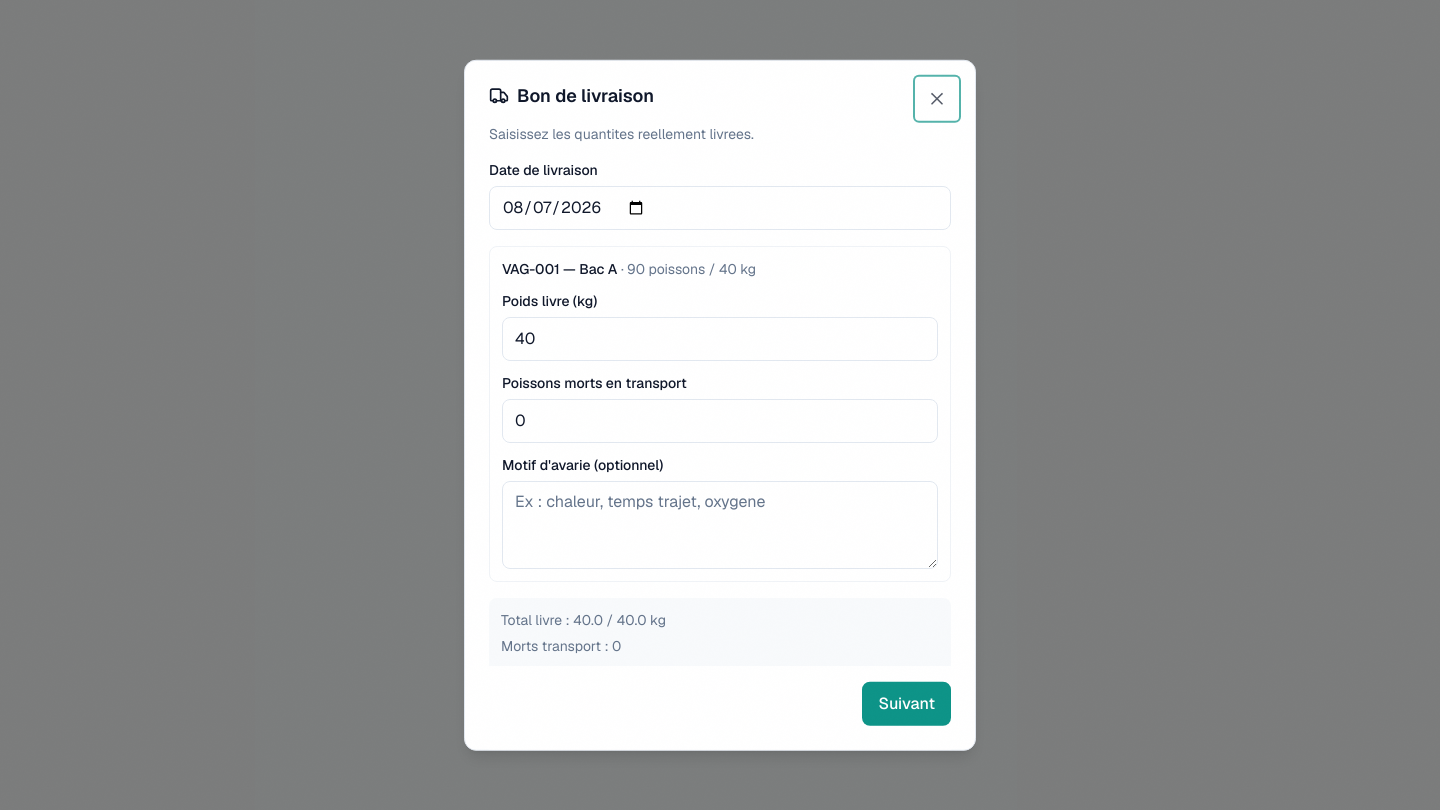
BonLivraisonFlow — Etape quantites › affiche le recap avec le nombre de poissons reellement livre (commande 90, 3 morts transport => 87)
Replace the text in the number field labelled "Poissons morts en transport" with "3" at (720, 420), box [502,398,938,442]
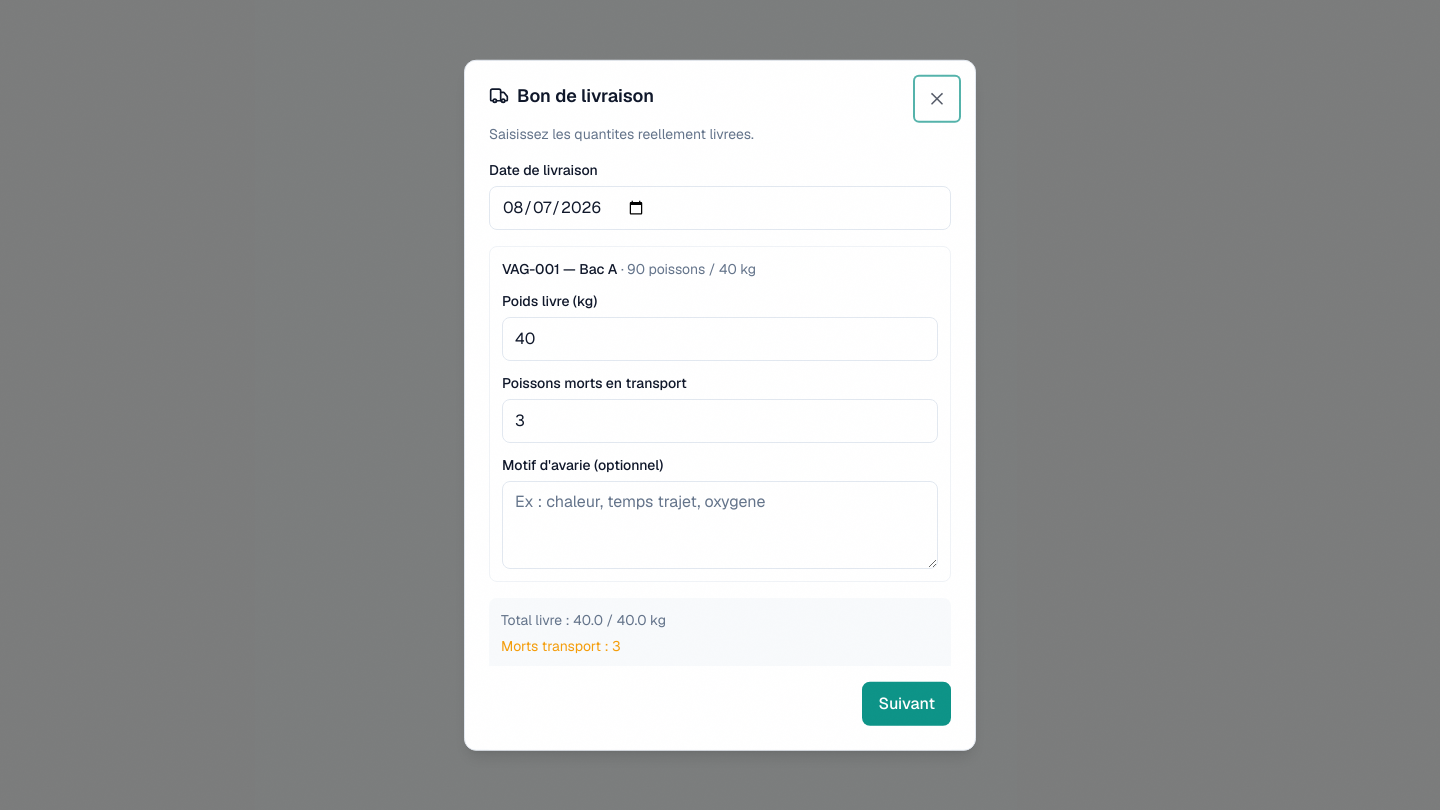
Click the button "Suivant" at (907, 703), box [862,681,951,725]
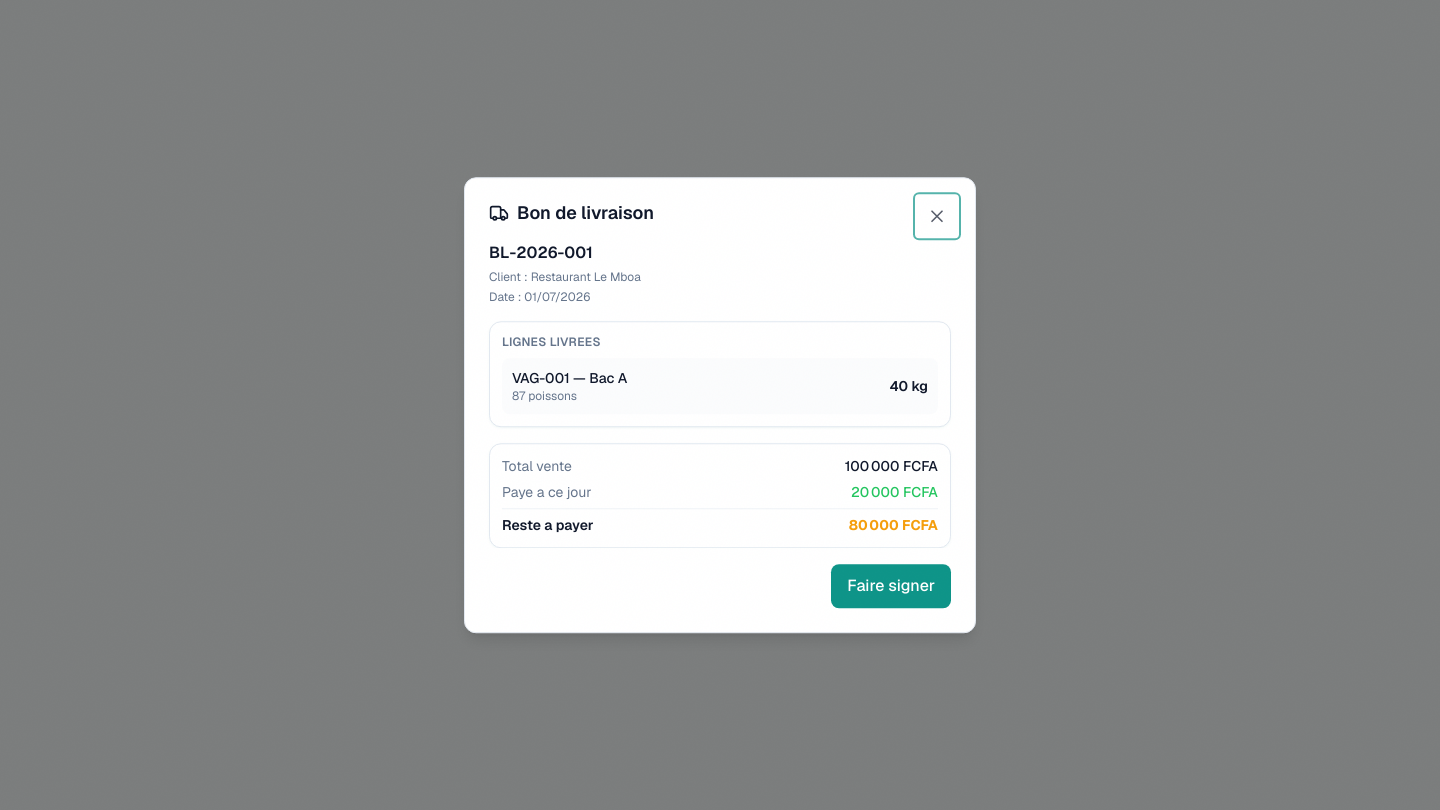
Result: the text "87 poissons" is shown at [512,388,577,404]
Result: the text "90 poissons" is gone
